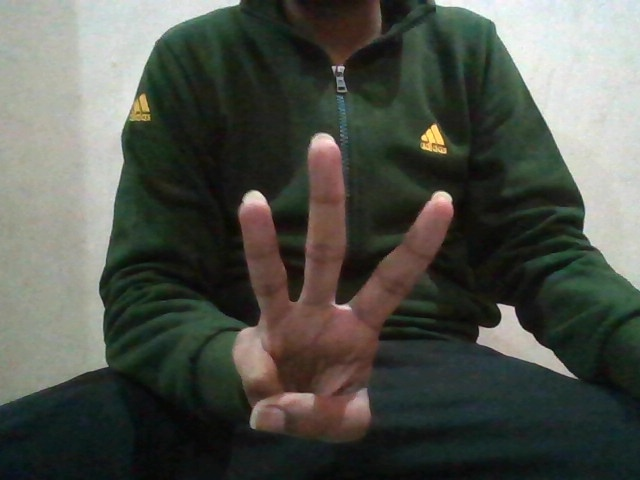W: (219, 123, 451, 450)
